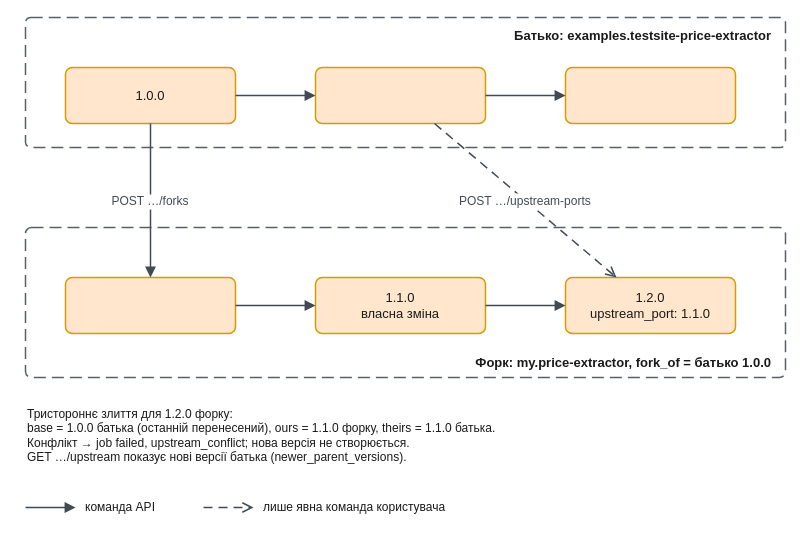
Image size: 804x536. Some labels were removed from this diagram. Here are the shapes that lost their labels. From the top down, the centre of each, then its label:
At [400,95]: "1.1.0 зміна в main.py".
At [650,95]: "1.2.0 ще одна зміна".
At [150,305]: "1.0.0 копія + fork_of".
